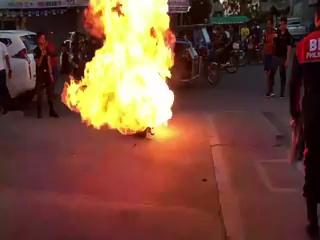Fire: (60, 2, 178, 133)
